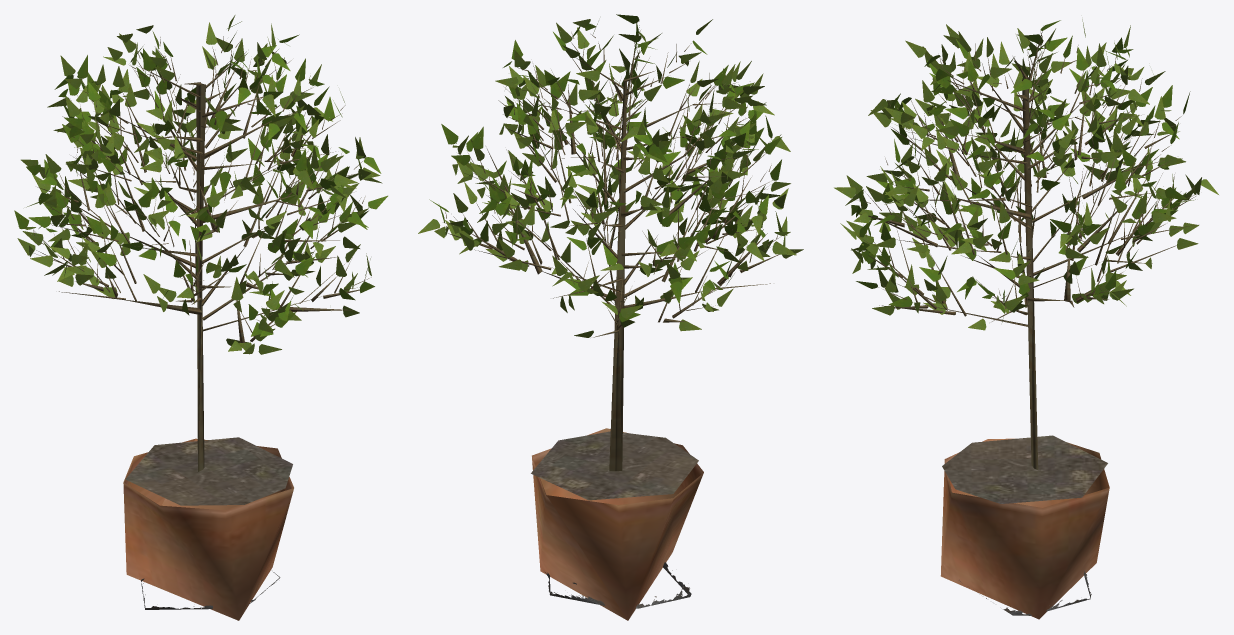
The model's file is cargo_potted_tree_c_far.glb.
3 renders of one model, left to right at view 1: azimuth 30°, elevation 25°; view 2: azimuth 150°, elevation 25°; view 3: azimuth 270°, elevation 25°, orthographic.
Visible parts, largest first — view 1: KB3D_JPN_PropPottedTree_C_Main; view 2: KB3D_JPN_PropPottedTree_C_Main; view 3: KB3D_JPN_PropPottedTree_C_Main.
Boxes of the visible parts, <box> form: KB3D_JPN_PropPottedTree_C_Main: <box>14,15,387,620</box>; KB3D_JPN_PropPottedTree_C_Main: <box>418,14,803,620</box>; KB3D_JPN_PropPottedTree_C_Main: <box>834,19,1218,619</box>.
Bounding box in the file's own units: 1.15 × 1.85 × 1.17.
Materials: 4 (4 with a texture image).
